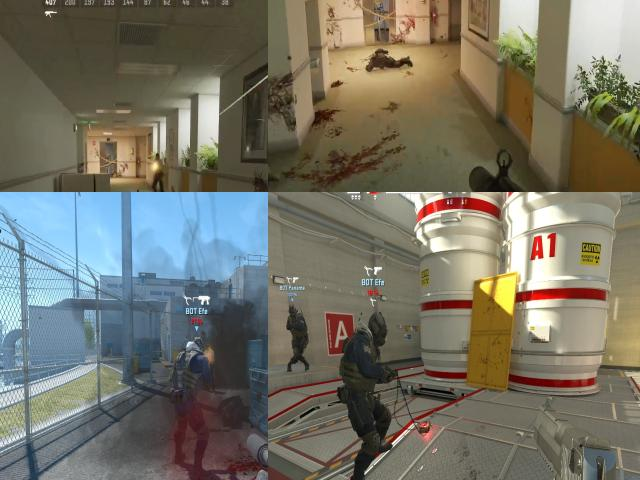Bomb: (416, 418, 434, 440)
CT: (344, 316, 385, 466), (178, 335, 205, 473), (290, 301, 306, 366)
CT-Head: (368, 314, 388, 343), (188, 338, 202, 354), (288, 304, 298, 318)
Dead: (362, 49, 418, 74), (228, 393, 250, 430)
T: (204, 344, 218, 388), (152, 152, 166, 182)
T-Head: (154, 152, 162, 161), (206, 344, 210, 351)
